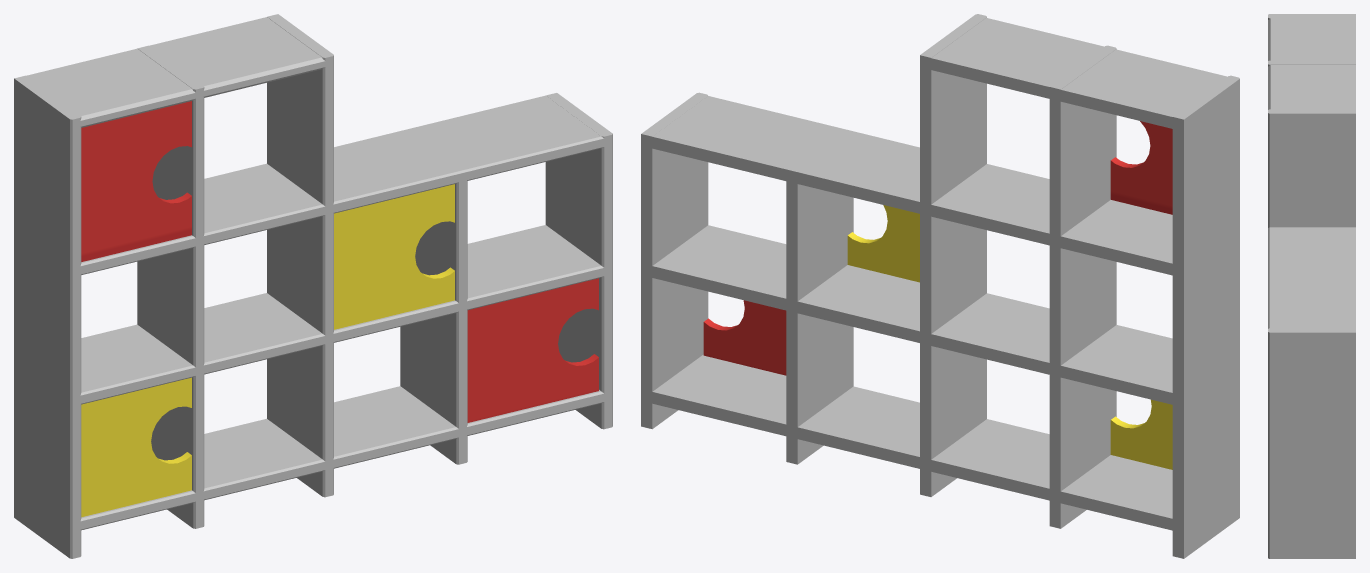
Rendered from Rack_02.fbx.
3 views of the same model, side by side, from view 1: azimuth 30°, elevation 25°; view 2: azimuth 150°, elevation 25°; view 3: azimuth 270°, elevation 25° (orthographic). The views are drawn at different scales.
Visible parts, largest first — view 1: Rack_02; view 2: Rack_02; view 3: Rack_02.
Part boxes in pixels (x1=…): Rack_02: x1=14, y1=14, x2=612, y2=558; Rack_02: x1=641, y1=14, x2=1239, y2=558; Rack_02: x1=1268, y1=14, x2=1355, y2=558.
Bounding box in the file's own units: 279 × 216 × 50.61.
